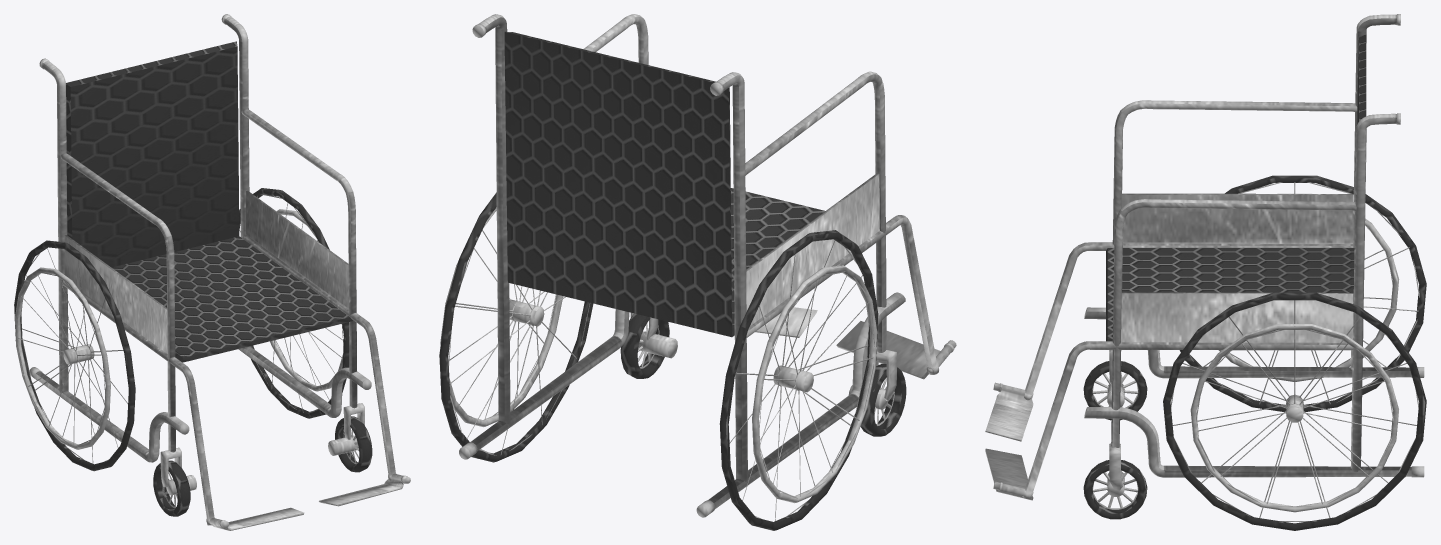
File: silla_de_ruedas.glb
The picture shows the model from 3 angles, left to right: view 1: azimuth 30°, elevation 25°; view 2: azimuth 150°, elevation 25°; view 3: azimuth 270°, elevation 25°; orthographic projection. The views are drawn at different scales.
Visible parts, largest first — view 1: Plane, Torus.001; view 2: Plane, Torus.001; view 3: Torus.001, Plane.
Boxes of the visible parts, x1,y1,x2,y2 form: Plane: [66, 41, 352, 362]; Torus.001: [14, 14, 410, 530]; Plane: [504, 31, 824, 337]; Torus.001: [439, 14, 956, 530]; Torus.001: [985, 14, 1426, 530]; Plane: [1106, 34, 1366, 341].
Bounding box in the file's own units: 556 × 796 × 781.
2 materials, 2 textured.
